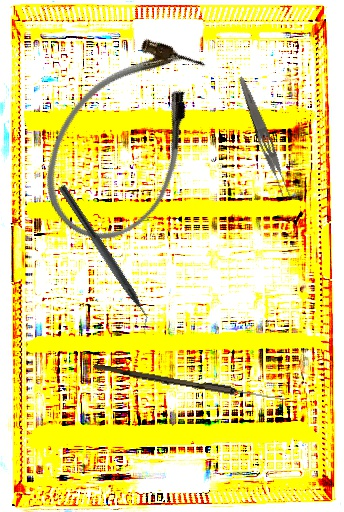Cannula: (18, 16, 232, 263)
Chopper: (48, 183, 160, 337)
Dressing Forceps: (232, 74, 295, 202)
Surgical Spoon: (92, 363, 287, 404)
